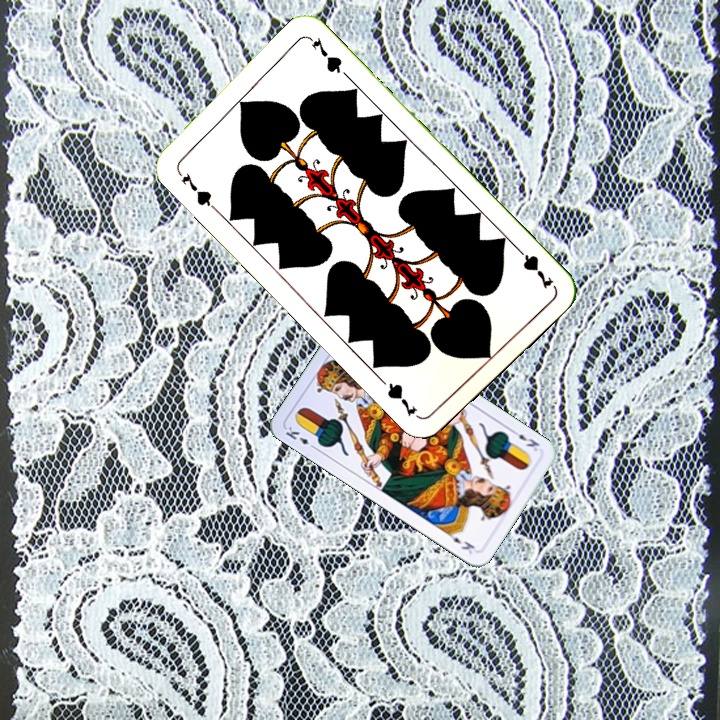EK: (281, 422, 319, 452), (507, 425, 542, 454)
G7: (510, 241, 556, 292), (173, 165, 219, 212)
